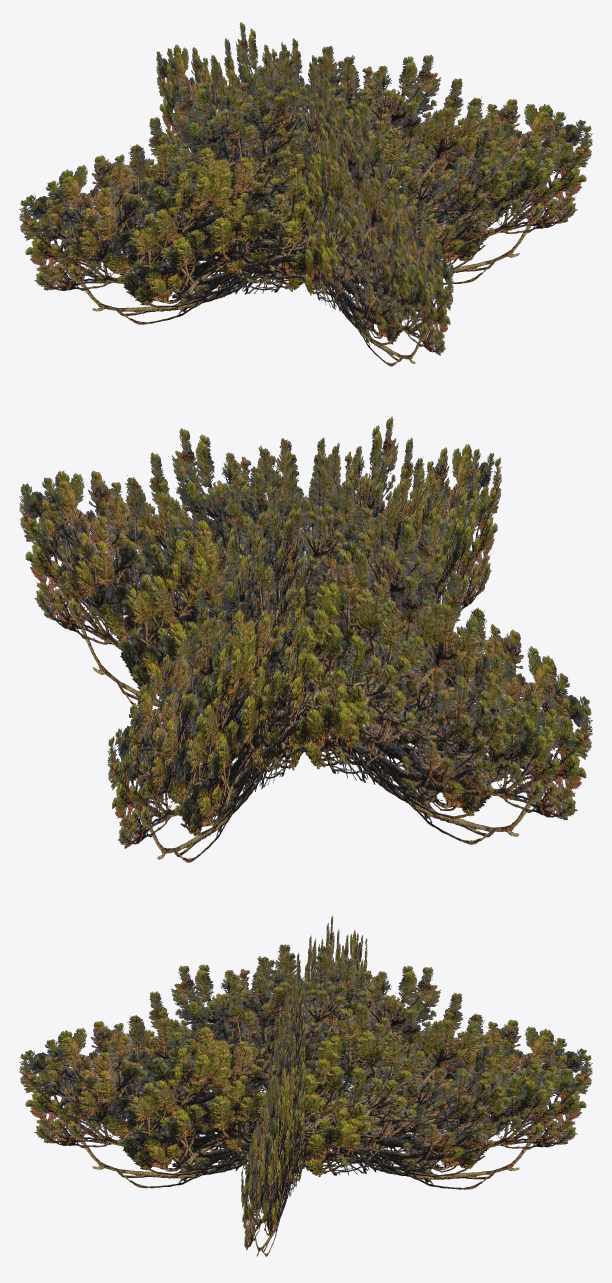
File: SM_Bush_Pine_00.fbx
The picture shows the model from 3 angles, top to bottom: view 1: azimuth 30°, elevation 25°; view 2: azimuth 150°, elevation 25°; view 3: azimuth 270°, elevation 25°; orthographic projection. The views are drawn at different scales.
Visible parts, largest first — view 1: SM_Bush_Pine_00; view 2: SM_Bush_Pine_00; view 3: SM_Bush_Pine_00.
Part boxes in pixels (x1,y1,x2,y2): SM_Bush_Pine_00: (19,22,592,366); SM_Bush_Pine_00: (19,416,592,862); SM_Bush_Pine_00: (19,915,592,1256).
Size of the model in its own units: 608 by 293 by 623.
